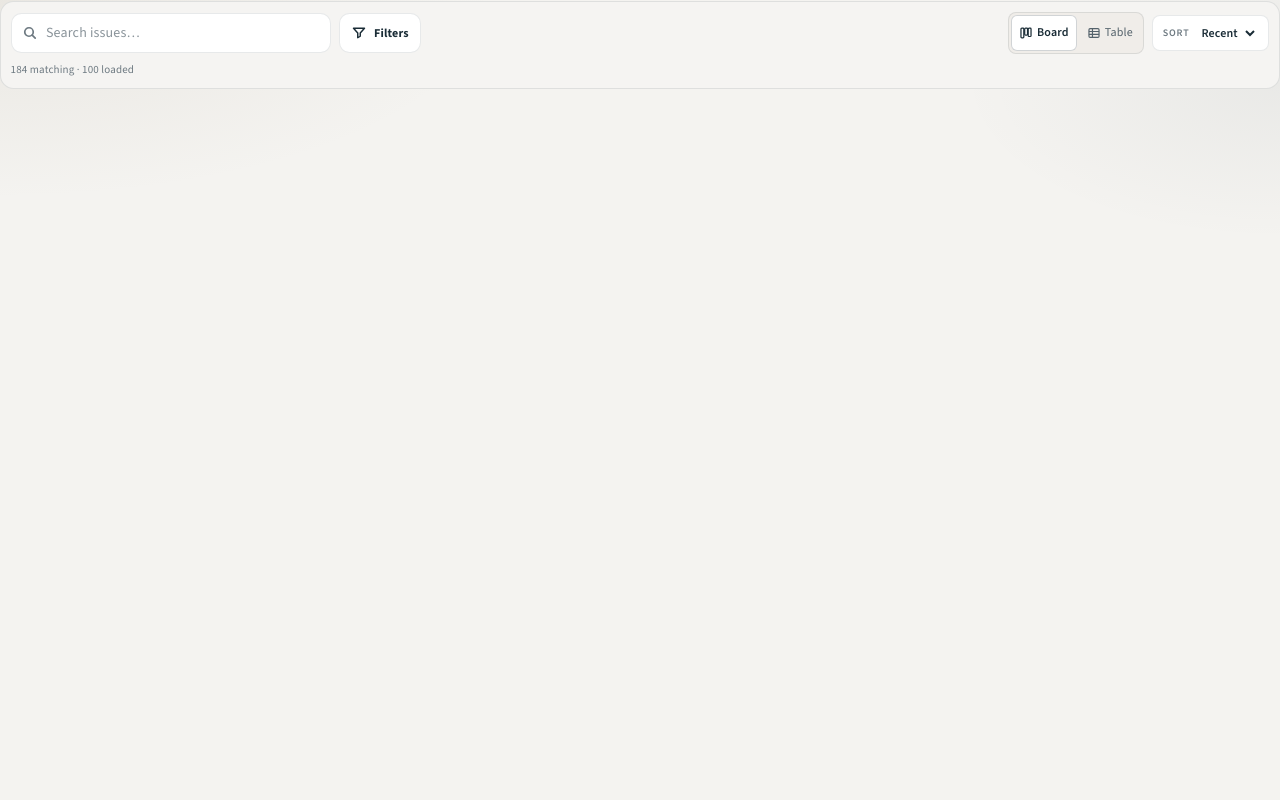
Test case: SpineFilterToolbar › keeps default filters collapsed and exposes them in one popover
Expected: the field labelled "Priority" is not shown
Click the button "Filters".
click(380, 33)  # box [339,13,421,53]
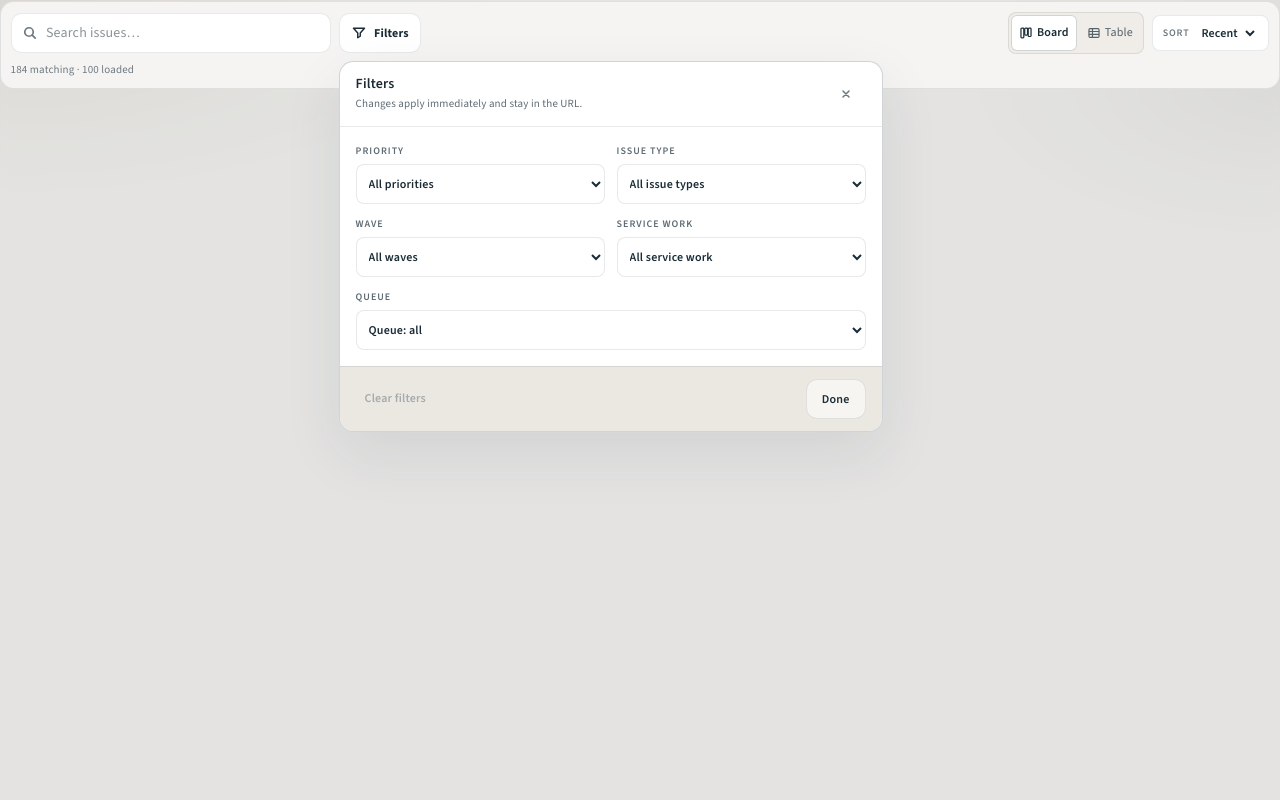
Now the dialog "Filters" is shown, box [339,61,883,432]
Now the dropdown labelled "Priority" is shown, box [356,164,605,204]
Now the dropdown labelled "Issue type" is shown, box [617,164,866,204]
